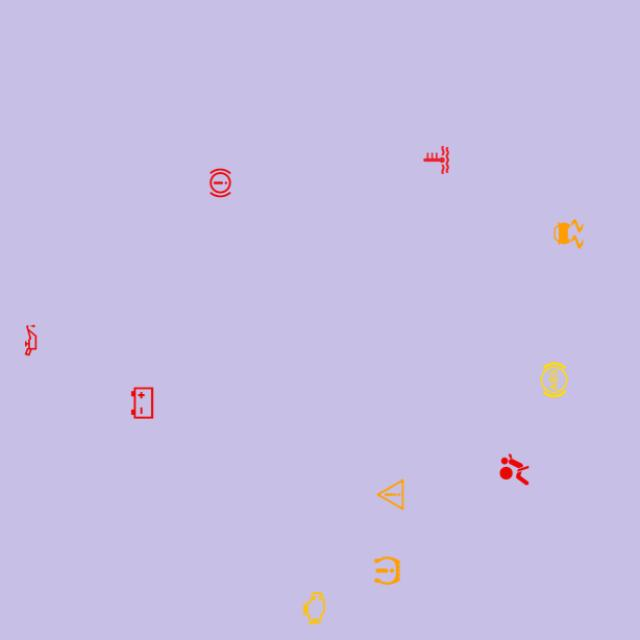Anti Lock Braking System: (535, 361, 573, 399)
Braking System Issue: (201, 164, 240, 202)
Charging System Issue: (123, 384, 162, 422)
Check Engine: (295, 589, 334, 627)
Electronic Stability Problem -ESP-: (549, 215, 588, 253)
Engine Overheating Warning Light: (417, 141, 455, 179)
Low Engine Oil Warning Light: (11, 321, 50, 360)
Low Tire Pressure Warning Light: (368, 551, 406, 590)
Master warning light: (371, 475, 410, 514)
SRS-Airbag: (495, 450, 534, 489)
